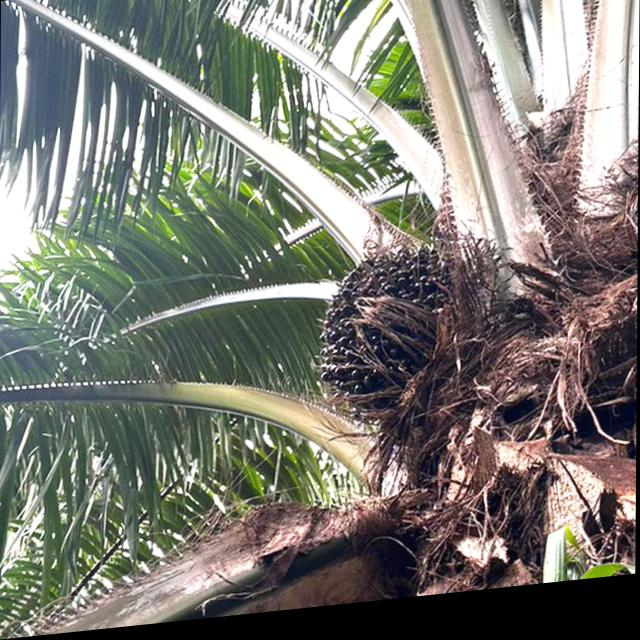unripe: (306, 238, 467, 437)
